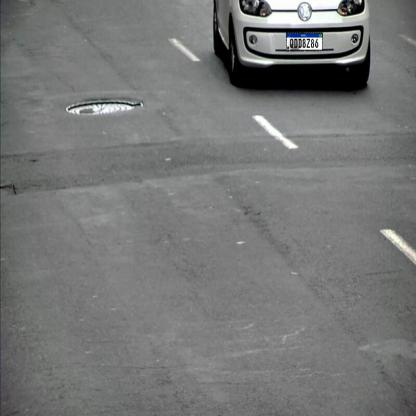PlacaM: (286, 32, 323, 51)
